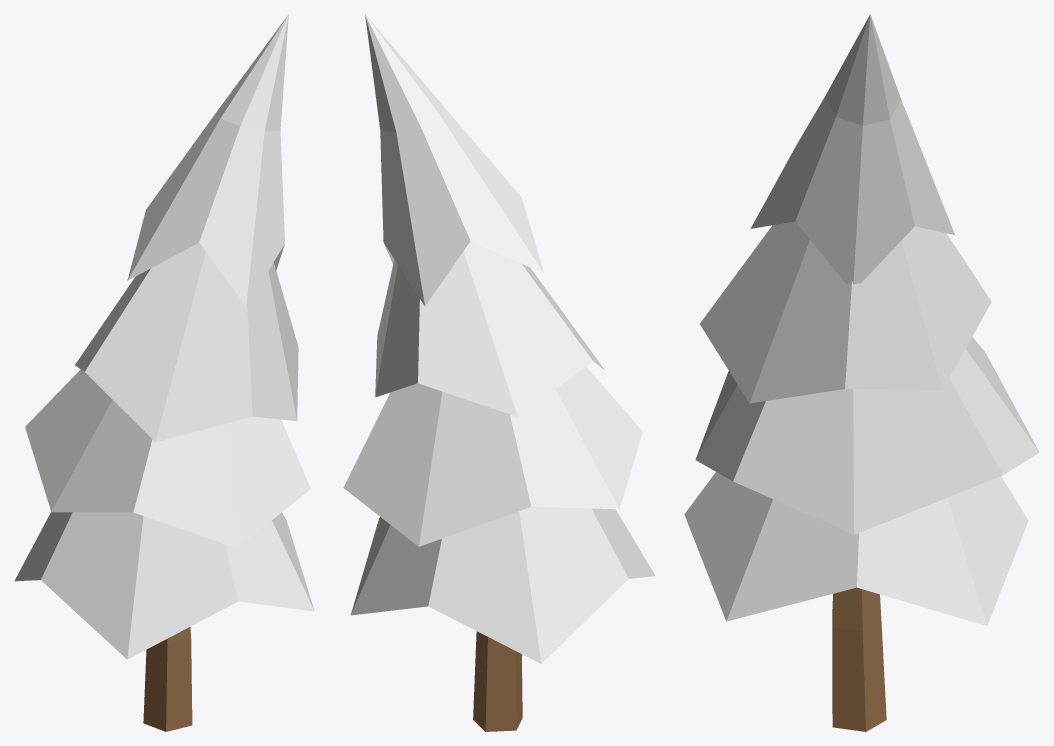
The model's file is Pine_Tree_OneSided_m_Snow_05_LOD.fbx.
The picture shows the model from 3 angles, left to right: view 1: azimuth 30°, elevation 25°; view 2: azimuth 150°, elevation 25°; view 3: azimuth 270°, elevation 25°; orthographic projection. The views are drawn at different scales.
Visible parts, largest first — view 1: Pine_Tree_OneSided_m_Snow_05_LOD0; view 2: Pine_Tree_OneSided_m_Snow_05_LOD0; view 3: Pine_Tree_OneSided_m_Snow_05_LOD0.
Part boxes in pixels (<box>): Pine_Tree_OneSided_m_Snow_05_LOD0: <box>14,14,314,731</box>; Pine_Tree_OneSided_m_Snow_05_LOD0: <box>343,14,655,731</box>; Pine_Tree_OneSided_m_Snow_05_LOD0: <box>684,14,1039,731</box>.
Size of what is drawn, in the model's own units: 423 by 1069 by 443.
